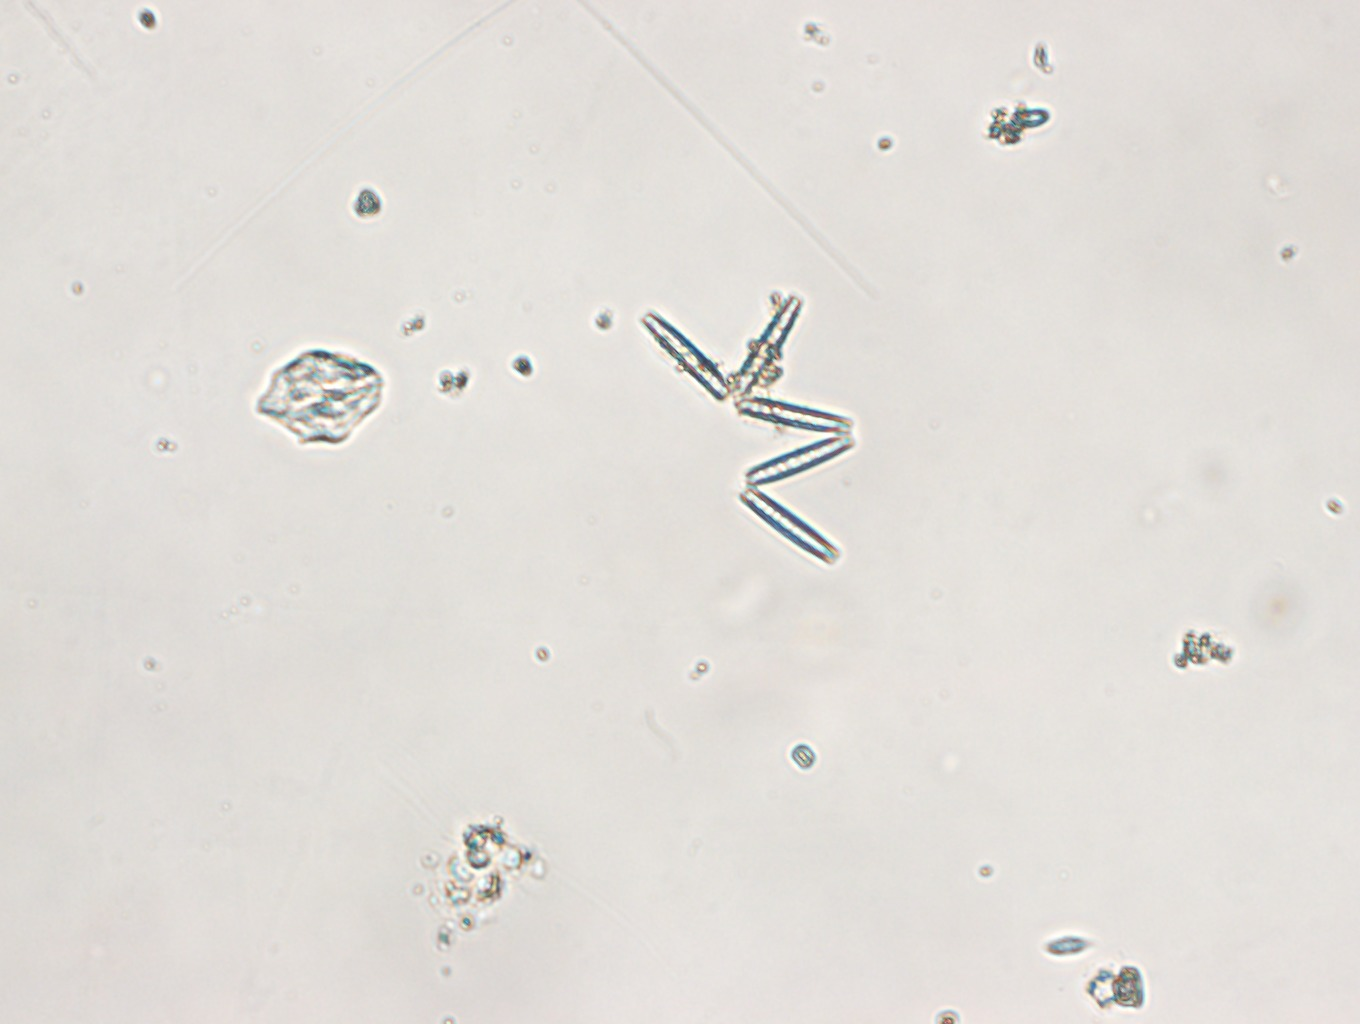thalassionema nitzschioides: (644, 293, 864, 565)
